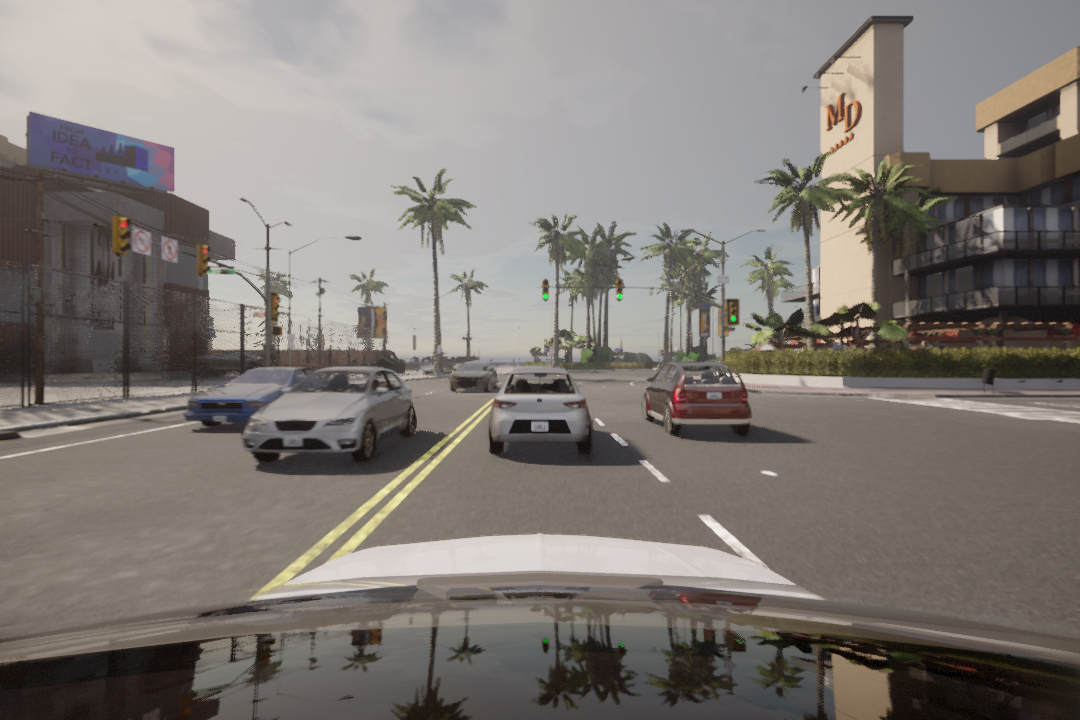TrafficLight: (111, 215, 130, 253), (727, 301, 742, 326), (195, 245, 208, 273), (269, 293, 280, 321), (614, 280, 626, 302), (541, 278, 550, 302)
TrafficSign: (134, 227, 154, 257), (161, 237, 177, 262)
